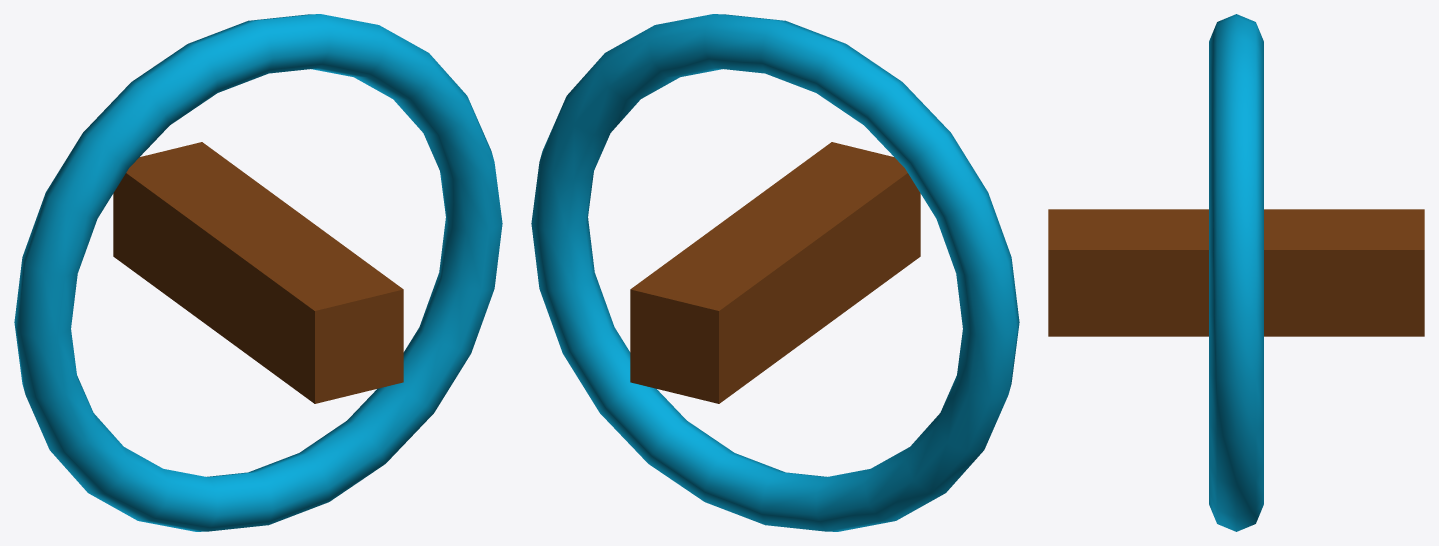
Rendered from SM_EventBeacon.obj.
3 views of the same model, side by side, from view 1: azimuth 30°, elevation 25°; view 2: azimuth 150°, elevation 25°; view 3: azimuth 270°, elevation 25° (orthographic). The views are drawn at different scales.
Visible parts, largest first — view 1: SM_EventBeacon; view 2: SM_EventBeacon; view 3: SM_EventBeacon.
Part boxes in pixels (box(x1,y1,x2,y2)): SM_EventBeacon: box(14, 14, 502, 531); SM_EventBeacon: box(531, 14, 1019, 531); SM_EventBeacon: box(1048, 14, 1424, 531).
Bounding box in the file's own units: 76 × 76 × 55.
